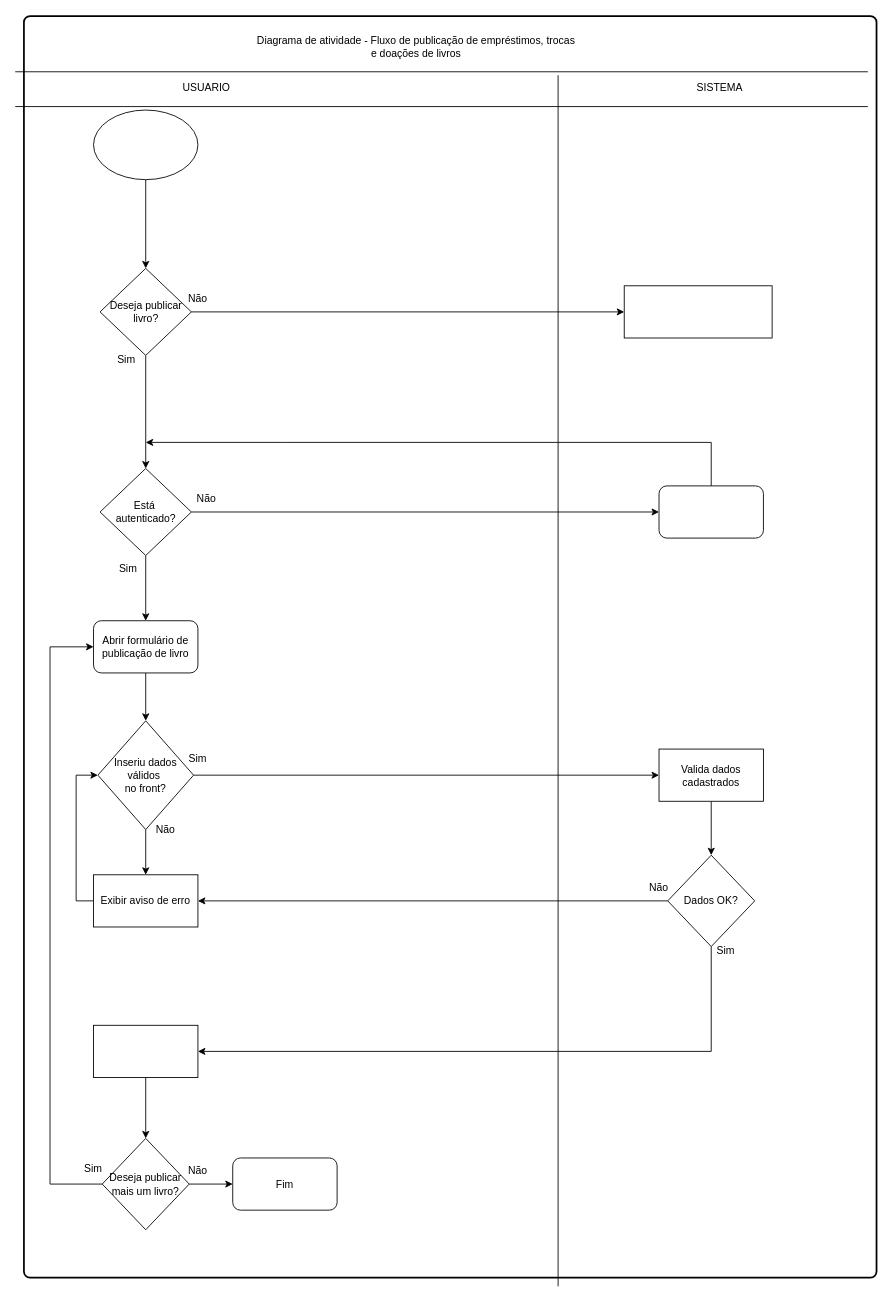
Image size: 893x1302. Some labels were removed from this diagram. Here are the shapes that lost their labels. From the top down, the centre of each, then its label:
the point at 145,144: Usuario entra na pagina principal
the point at 697,311: Ir para fluxo de solicitação de livro
the point at 710,511: Ir para página de autenticação
the point at 145,1050: Livro Publicado com sucesso
